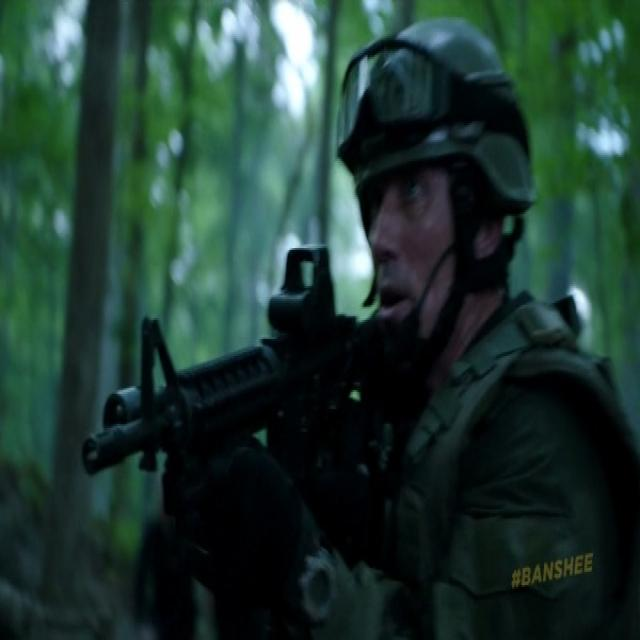rifle: (82, 247, 433, 547)
